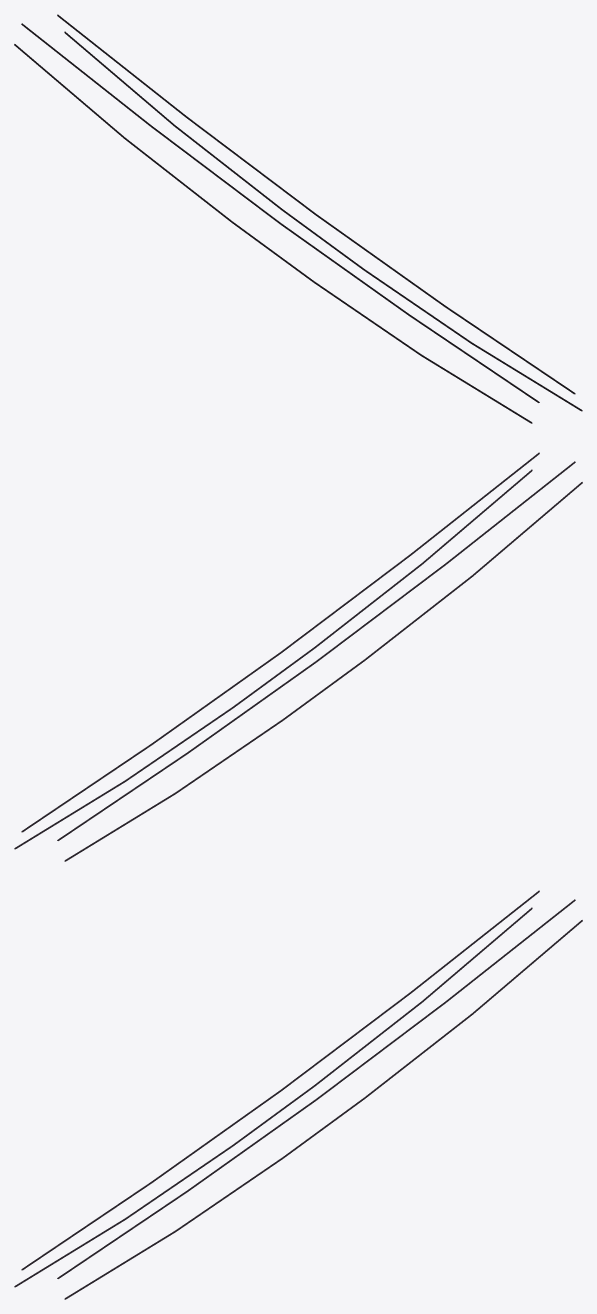
The model's file is Electric_Cable_1B.fbx.
3 views of the same model, one above another, from view 1: azimuth 30°, elevation 25°; view 2: azimuth 150°, elevation 25°; view 3: azimuth 330°, elevation 25° (orthographic).
Visible parts, largest first — view 1: Electric_Cable_1B; view 2: Electric_Cable_1B; view 3: Electric_Cable_1B.
Part boxes in pixels (x1=…): Electric_Cable_1B: x1=14, y1=14, x2=582, y2=423; Electric_Cable_1B: x1=14, y1=452, x2=582, y2=861; Electric_Cable_1B: x1=14, y1=890, x2=582, y2=1299.
Size of the model in its own units: 2.89 by 2.06 by 50.
